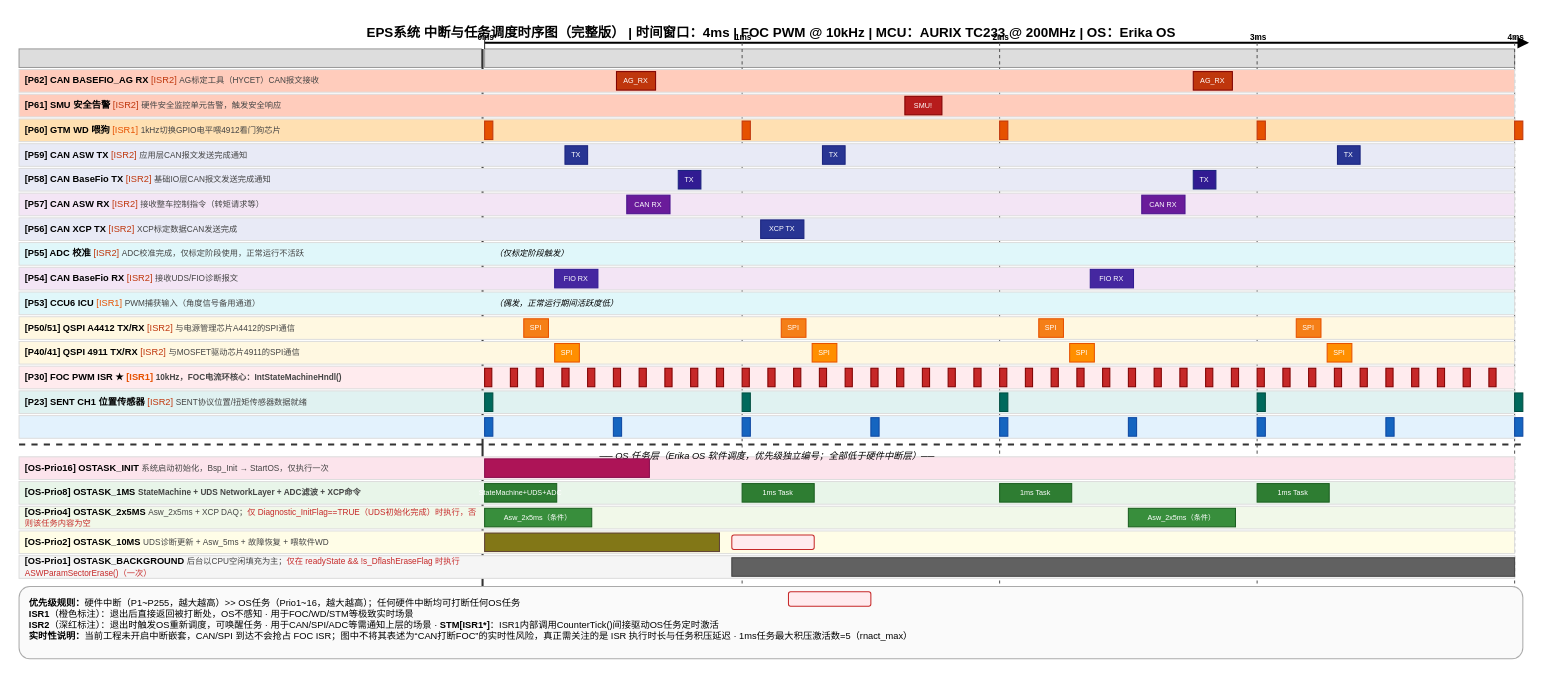
The diagram is 1555 pixels wide and 677 high, and some of its shapes have lost their labels. The shapes that lost their labels are listed below. From the top down, each one's centre as x and y in pixels, then its label:
point 250,57: 优先级 / 执行上下文 · 功能说明
point 999,57: 时间轴（0ms ──────────────────────────────────────── 4ms） 1ms = 250px
point 766,426: [P20] STM 500μs 节拍 [ISR1*] CounterTick()驱动OS定时触发任务
point 566,467: Init（仅启动时执行一次）
point 601,542: UDS诊断更新 + Asw_5ms + 故障恢复 + ServiceWDT
point 772,542: MOD-SCH-01
point 1123,566: CPU空闲填充（仅条件满足时插入 ASWParamSectorErase()）
point 829,598: MOD-SCH-02
